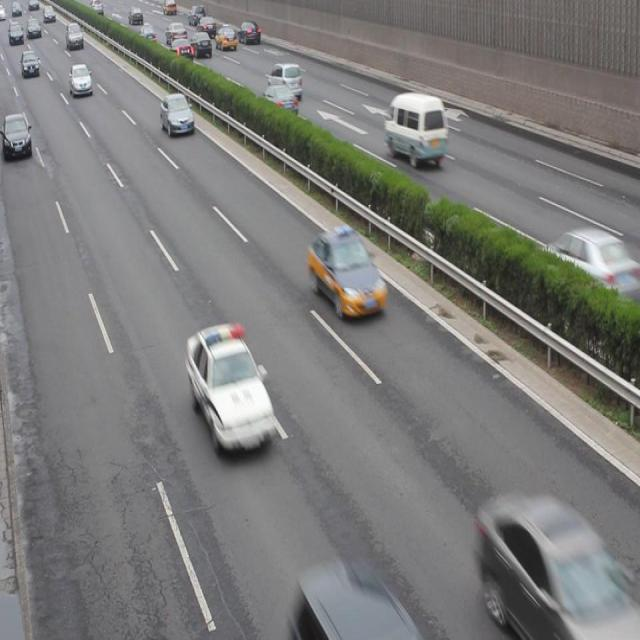car: (479, 492, 625, 640), (186, 321, 276, 458), (309, 226, 386, 323), (540, 226, 624, 297), (160, 91, 195, 139), (3, 112, 32, 162), (260, 82, 297, 120), (268, 61, 302, 98)
truck: (382, 92, 449, 165)
